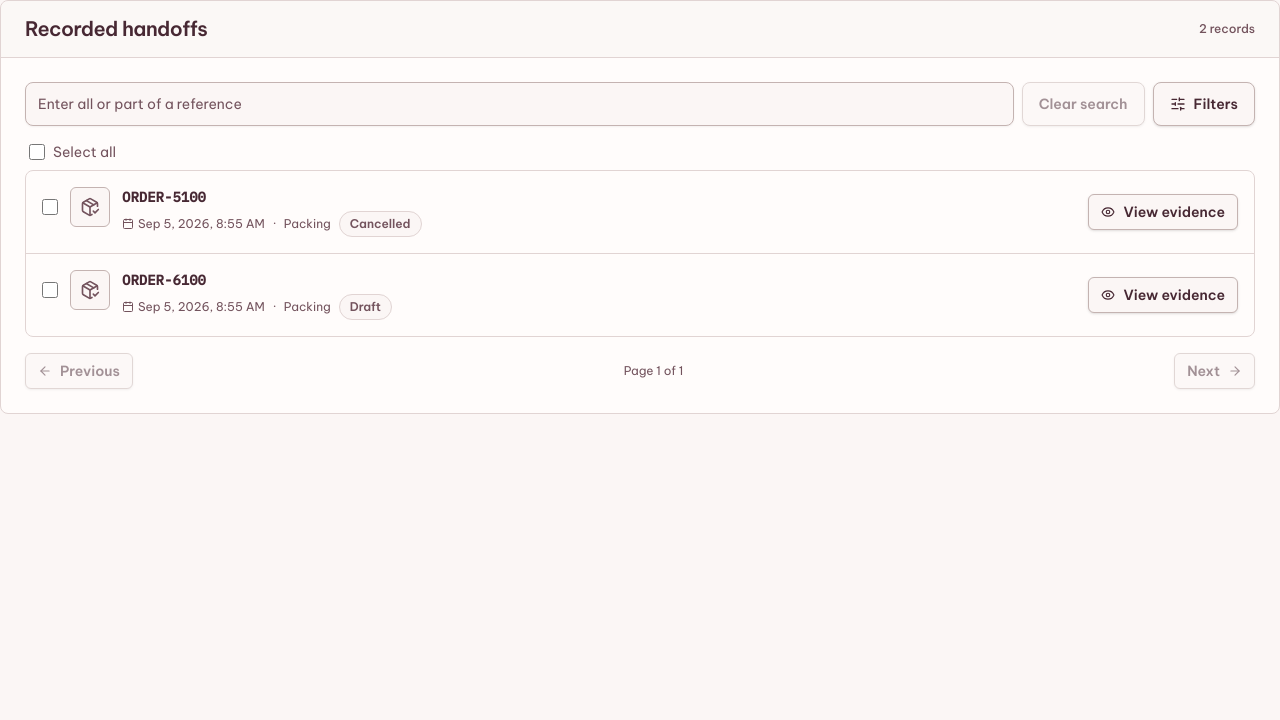
Scenario: RecorderHistory › lets records in every status be selected in the list and deleted from the detail popup
Expected: the text "ORDER-5100" is shown, top-left (122, 188), bottom-right (206, 206)
Expected: the checkbox named "Select ORDER-6100" is shown, top-left (42, 282), bottom-right (58, 298)
Click the checkbox named "Select ORDER-5100".
click(50, 207)  # box top-left (42, 199), bottom-right (58, 215)
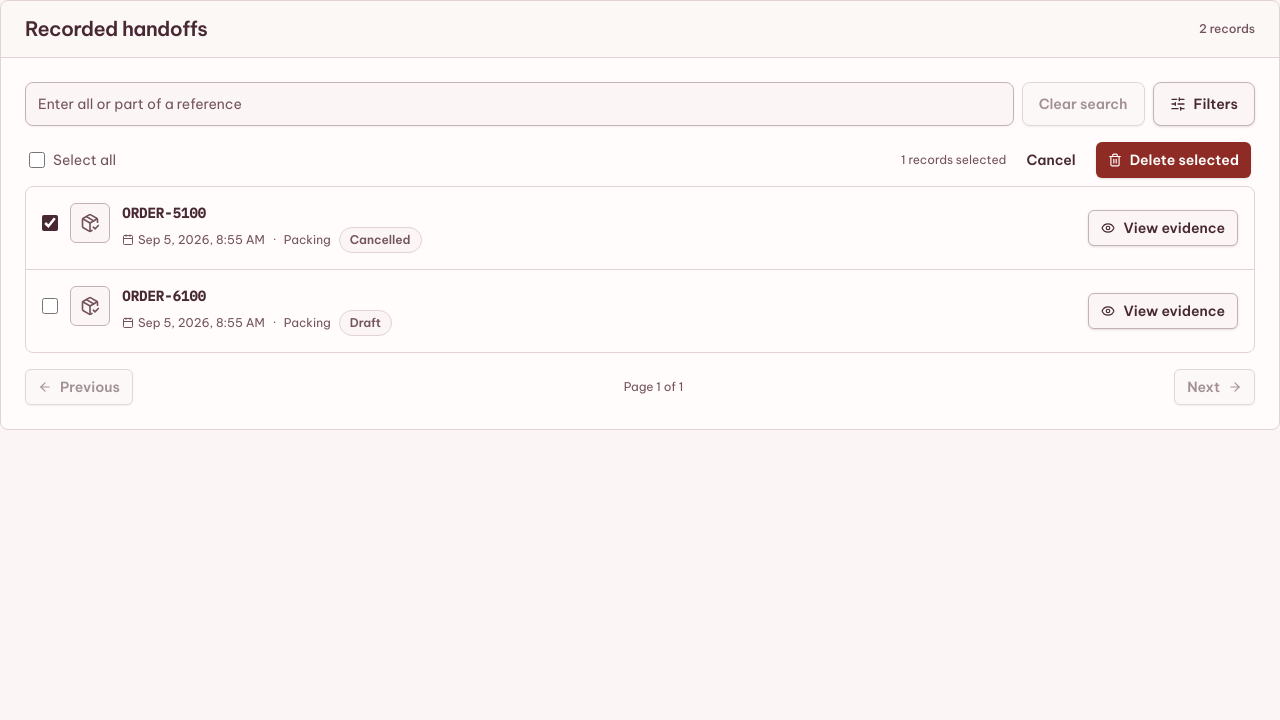
Click the checkbox named "Select ORDER-6100".
click(50, 306)  # box top-left (42, 298), bottom-right (58, 314)
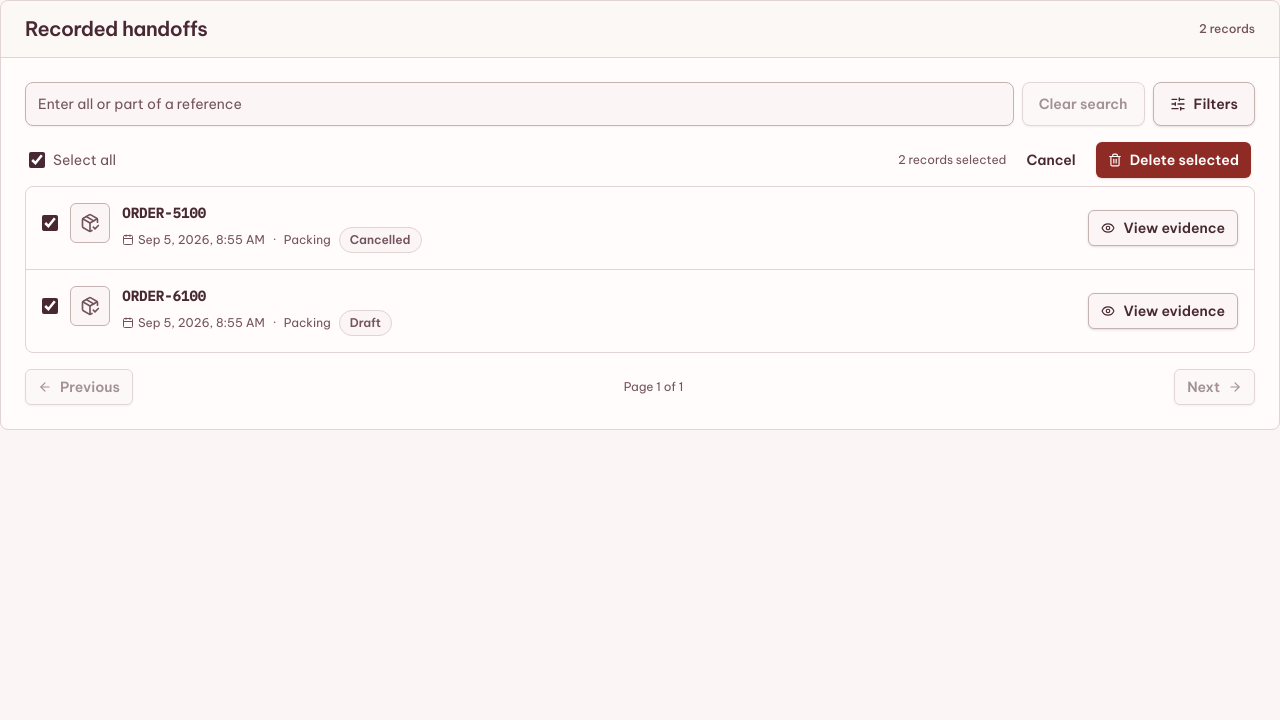
Click the button "Delete selected".
click(1173, 160)  # box top-left (1096, 142), bottom-right (1251, 178)
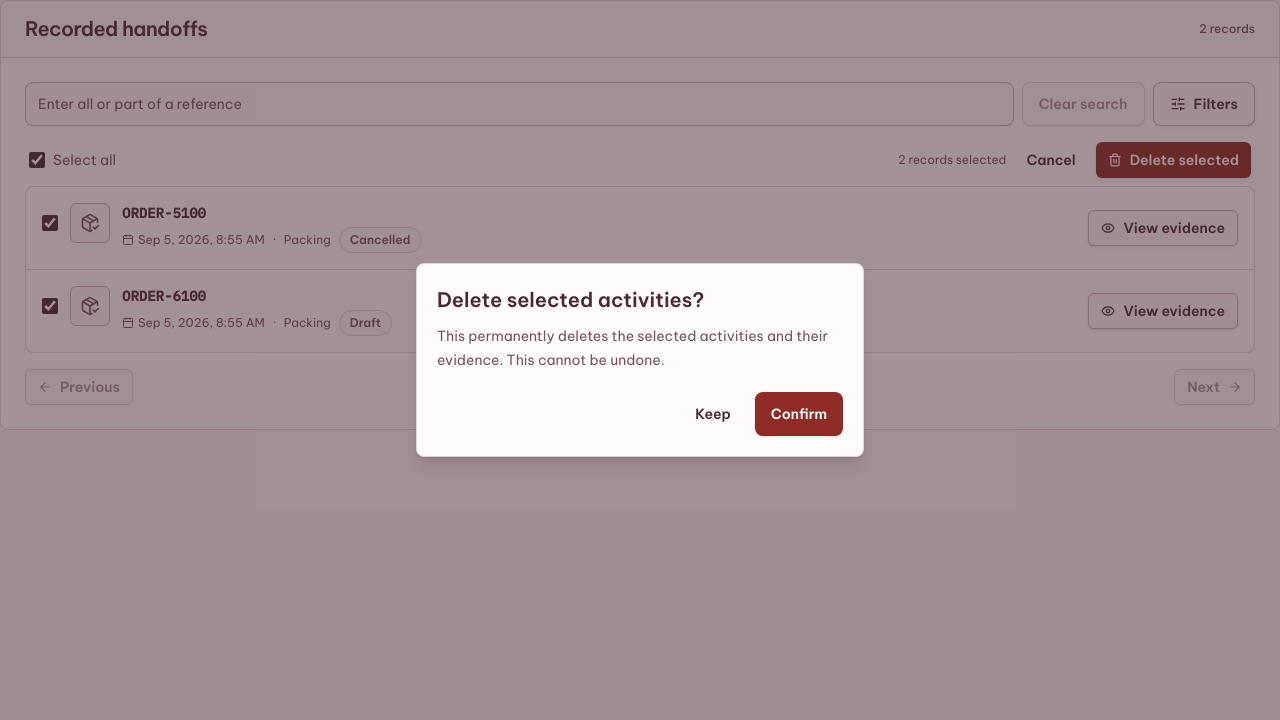
Click the button "Confirm".
click(799, 414)  # box top-left (755, 392), bottom-right (843, 436)
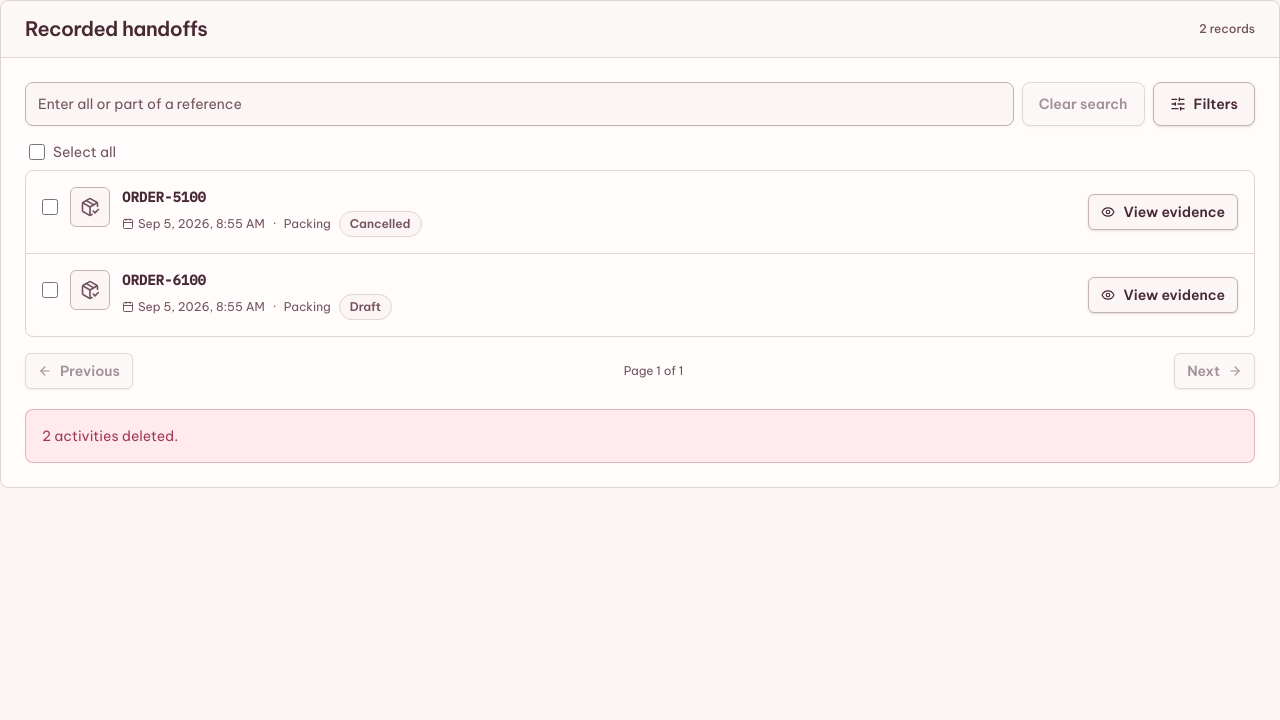
Click the button "View evidence" in the row of "ORDER-5100".
click(1163, 212)  # box top-left (1088, 194), bottom-right (1238, 230)
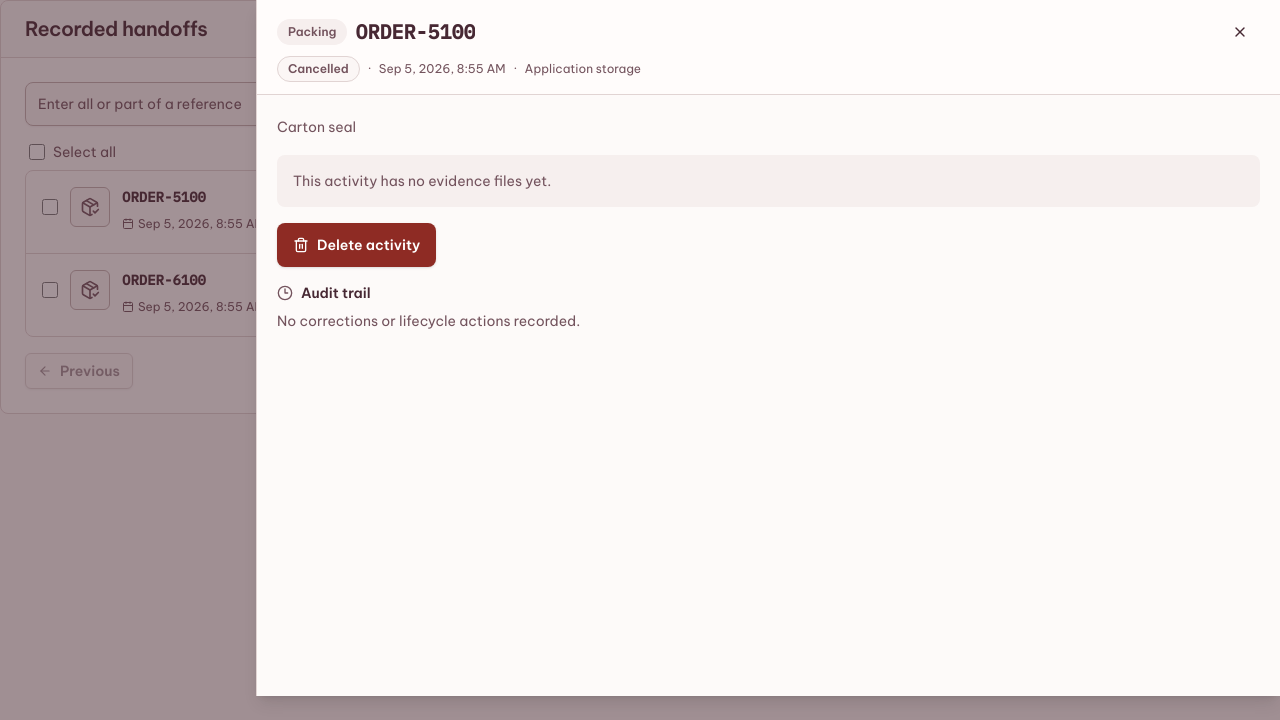
Click the button "Delete activity".
click(357, 245)  # box top-left (277, 223), bottom-right (436, 267)
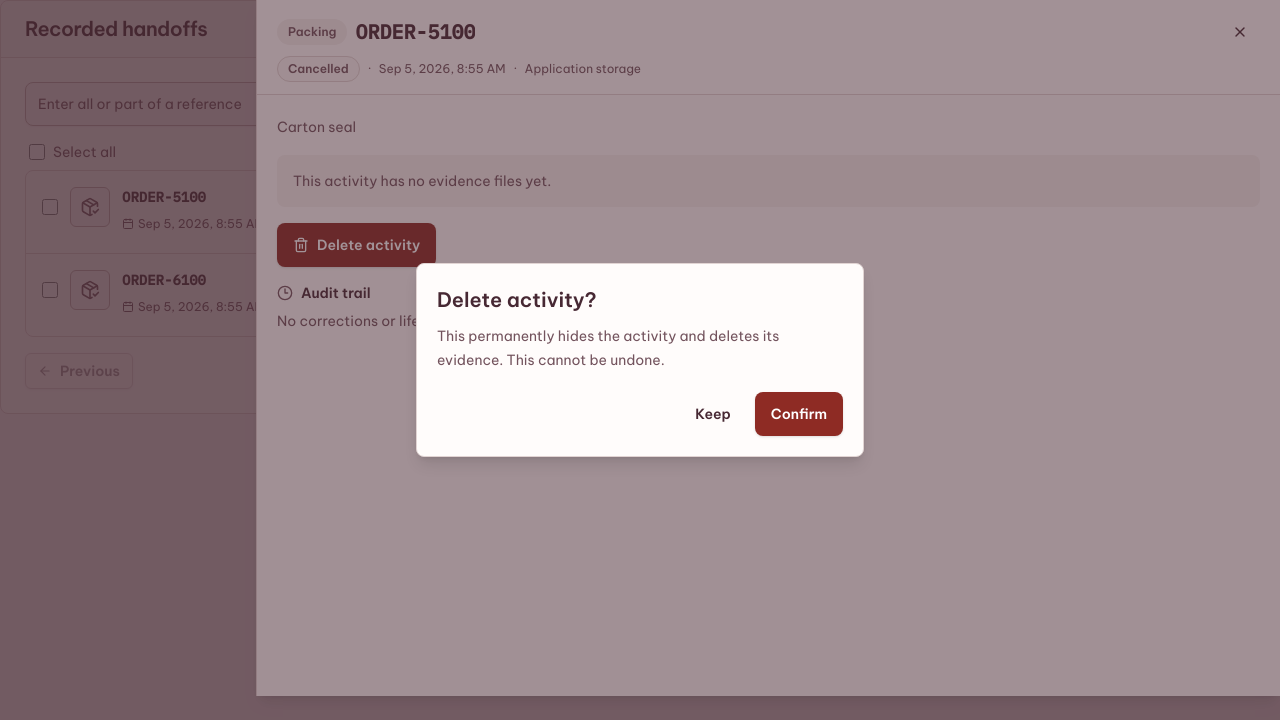
Expected: the heading "Delete activity?" is shown, top-left (437, 287), bottom-right (597, 312)
